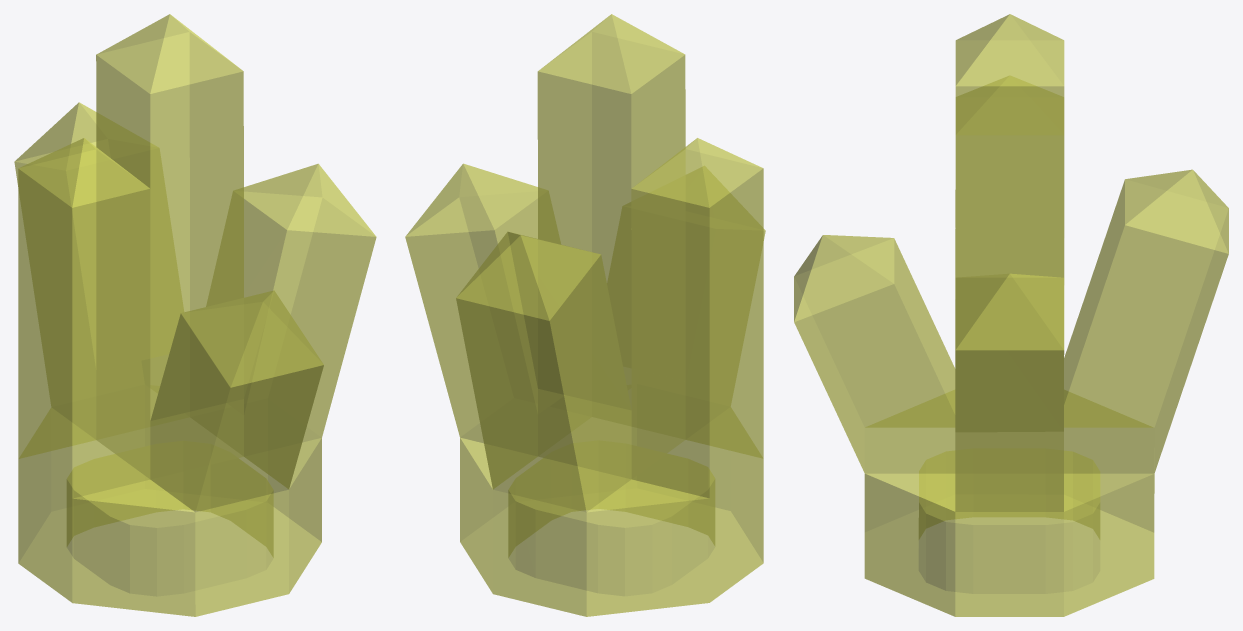
Rendered from chrystal.obj.
3 views of the same model, side by side, from view 1: azimuth 30°, elevation 25°; view 2: azimuth 150°, elevation 25°; view 3: azimuth 270°, elevation 25° (orthographic).
Visible parts, largest first — view 1: chrystal; view 2: chrystal; view 3: chrystal.
Boxes of the visible parts, box(x1,y1,x2,y2) form: chrystal: box(14, 14, 376, 616); chrystal: box(405, 14, 765, 616); chrystal: box(794, 14, 1228, 616).
Bounding box in the file's own units: 0.9754 × 1.65 × 1.2.
